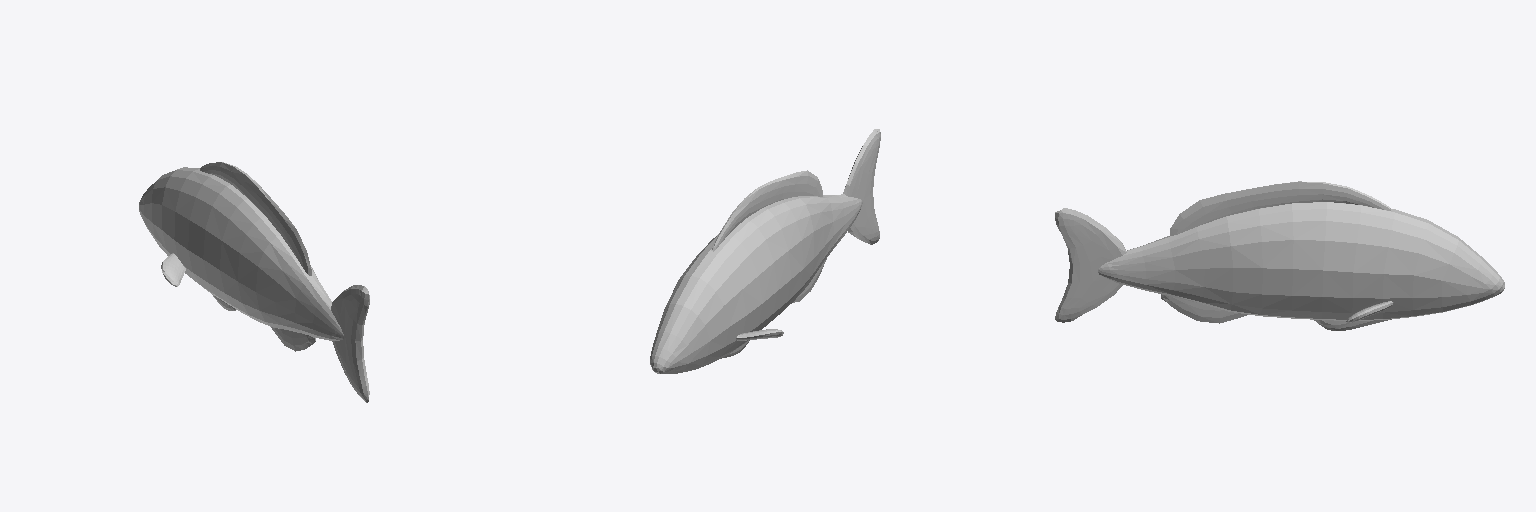
The model's file is Fish1_OBJ.OBJ.
The picture shows the model from 3 angles: view 1: azimuth 30°, elevation 25°; view 2: azimuth 150°, elevation 25°; view 3: azimuth 270°, elevation 25°; orthographic projection.
Visible parts, largest first — view 1: Fish1_OBJ:Group8, Fish1_OBJ:Group7, Fish1_OBJ:Group2, Fish1_OBJ:Group3, Fish1_OBJ:Group5; view 2: Fish1_OBJ:Group8, Fish1_OBJ:Group7, Fish1_OBJ:Group2; view 3: Fish1_OBJ:Group8, Fish1_OBJ:Group7, Fish1_OBJ:Group2, Fish1_OBJ:Group3.
Part boxes in pixels (bbox=[...]): Fish1_OBJ:Group8: bbox=[139, 167, 343, 340]; Fish1_OBJ:Group7: bbox=[331, 285, 369, 402]; Fish1_OBJ:Group2: bbox=[200, 162, 311, 275]; Fish1_OBJ:Group3: bbox=[271, 327, 315, 351]; Fish1_OBJ:Group5: bbox=[161, 253, 185, 286]; Fish1_OBJ:Group8: bbox=[650, 194, 862, 373]; Fish1_OBJ:Group7: bbox=[843, 129, 880, 244]; Fish1_OBJ:Group2: bbox=[711, 170, 822, 251]; Fish1_OBJ:Group8: bbox=[1098, 202, 1504, 320]; Fish1_OBJ:Group7: bbox=[1055, 208, 1126, 322]; Fish1_OBJ:Group2: bbox=[1169, 181, 1390, 236]; Fish1_OBJ:Group3: bbox=[1161, 294, 1247, 323].
Size of the model in its own units: 0.3074 by 0.4112 by 1.13.